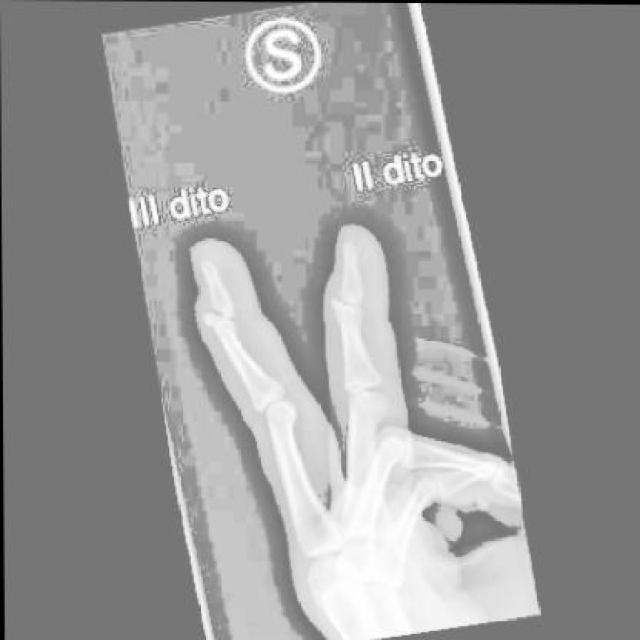Fracture: (195, 292, 239, 325), (331, 283, 364, 311)
